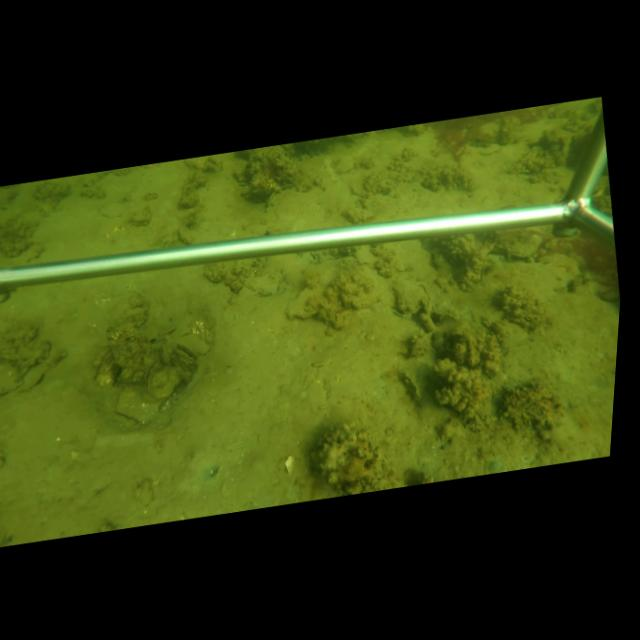Oyster-Closed: (116, 387, 163, 426), (143, 362, 186, 403), (400, 369, 422, 411), (403, 330, 434, 357)
Oyster-Open: (391, 276, 431, 319), (170, 342, 202, 371)
